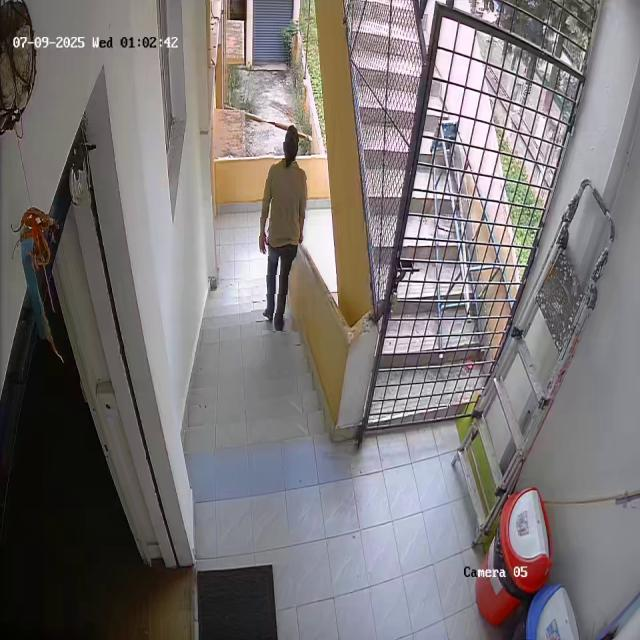person: (252, 122, 310, 332)
